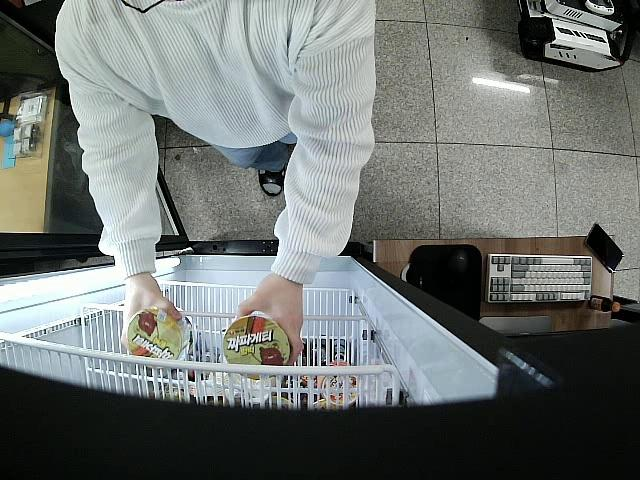00_hand: (235, 275, 305, 367), (121, 275, 183, 349)
04_chapagetti_S: (222, 317, 290, 380), (125, 307, 191, 369)
